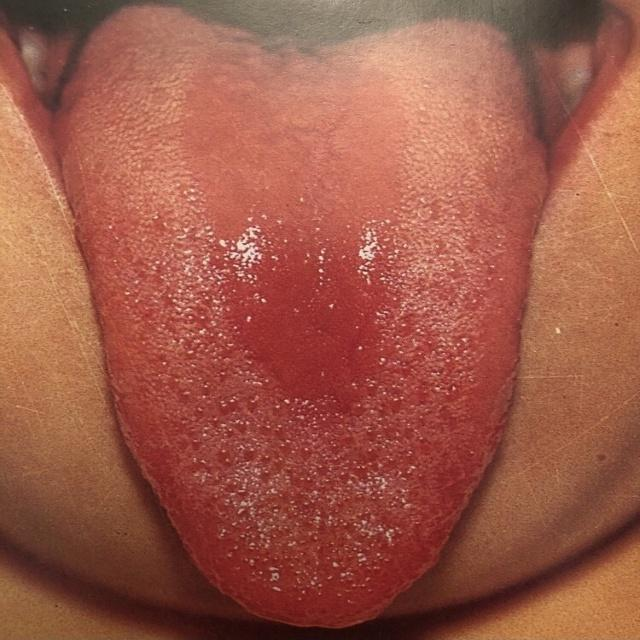baitaishe: (54, 6, 551, 629)
hongdianshe: (241, 443, 256, 464), (244, 395, 258, 416), (339, 469, 349, 484)
hongshe: (54, 6, 551, 629)
